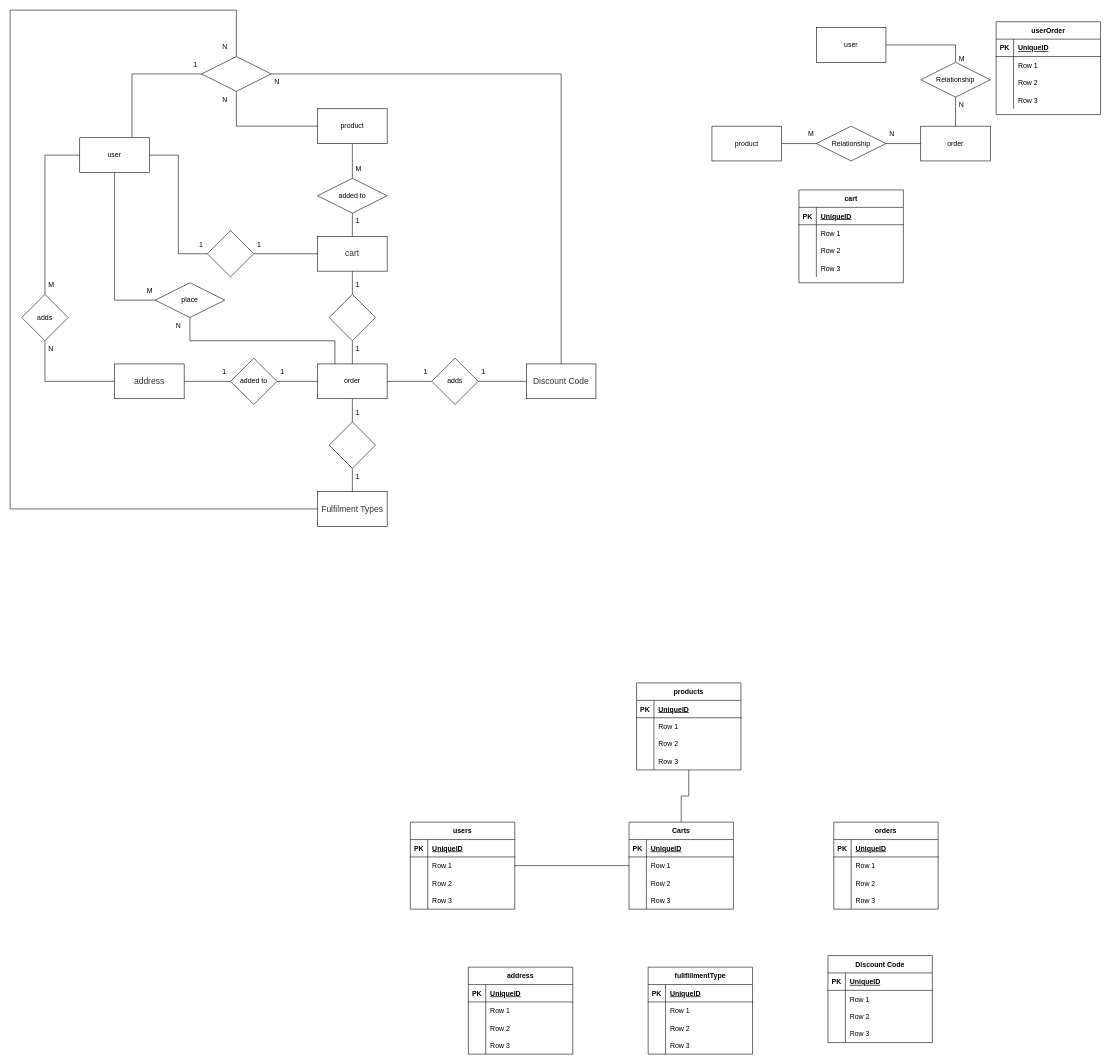
This 1111x1064 diagram has some shape labels left out. Each missing label, with the centre of its shape:
added: pixel 230 253
checks out: pixel 352 317
manages: pixel 236 73
selects: pixel 352 444
